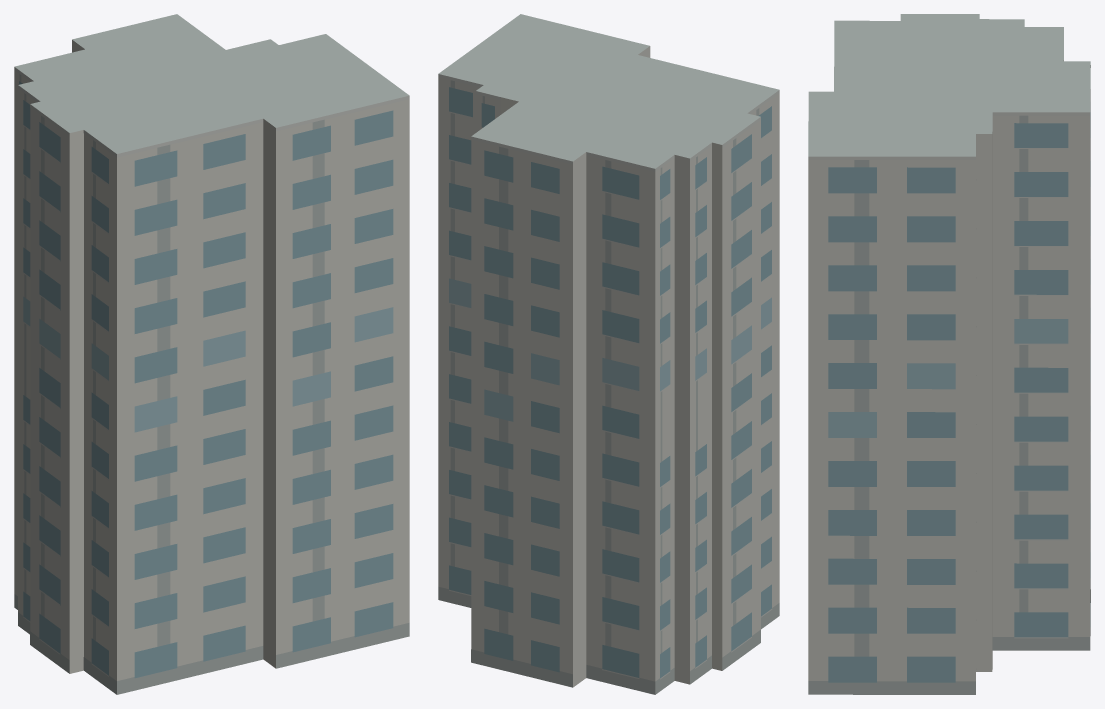
File: residential-3d7b3d25-9195-458c-b132-3b1141c1fee1.glb
3 views of the same model, side by side, from view 1: azimuth 30°, elevation 25°; view 2: azimuth 150°, elevation 25°; view 3: azimuth 270°, elevation 25° (orthographic). The views are drawn at different scales.
Parts seen in each view (by area): view 1: residential-3d7b3d25-9195-458c-b132-3b1141c1fee1.tmp; view 2: residential-3d7b3d25-9195-458c-b132-3b1141c1fee1.tmp; view 3: residential-3d7b3d25-9195-458c-b132-3b1141c1fee1.tmp.
Boxes of the visible parts, x1,y1,x2,y2 form: residential-3d7b3d25-9195-458c-b132-3b1141c1fee1.tmp: (14,14,409,694); residential-3d7b3d25-9195-458c-b132-3b1141c1fee1.tmp: (438,14,779,694); residential-3d7b3d25-9195-458c-b132-3b1141c1fee1.tmp: (808,14,1090,694).
Size of the model in its own units: 22.2 by 39 by 18.57.
